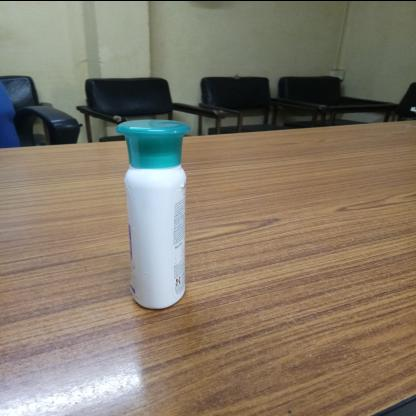bottle: (6, 87, 264, 147)
